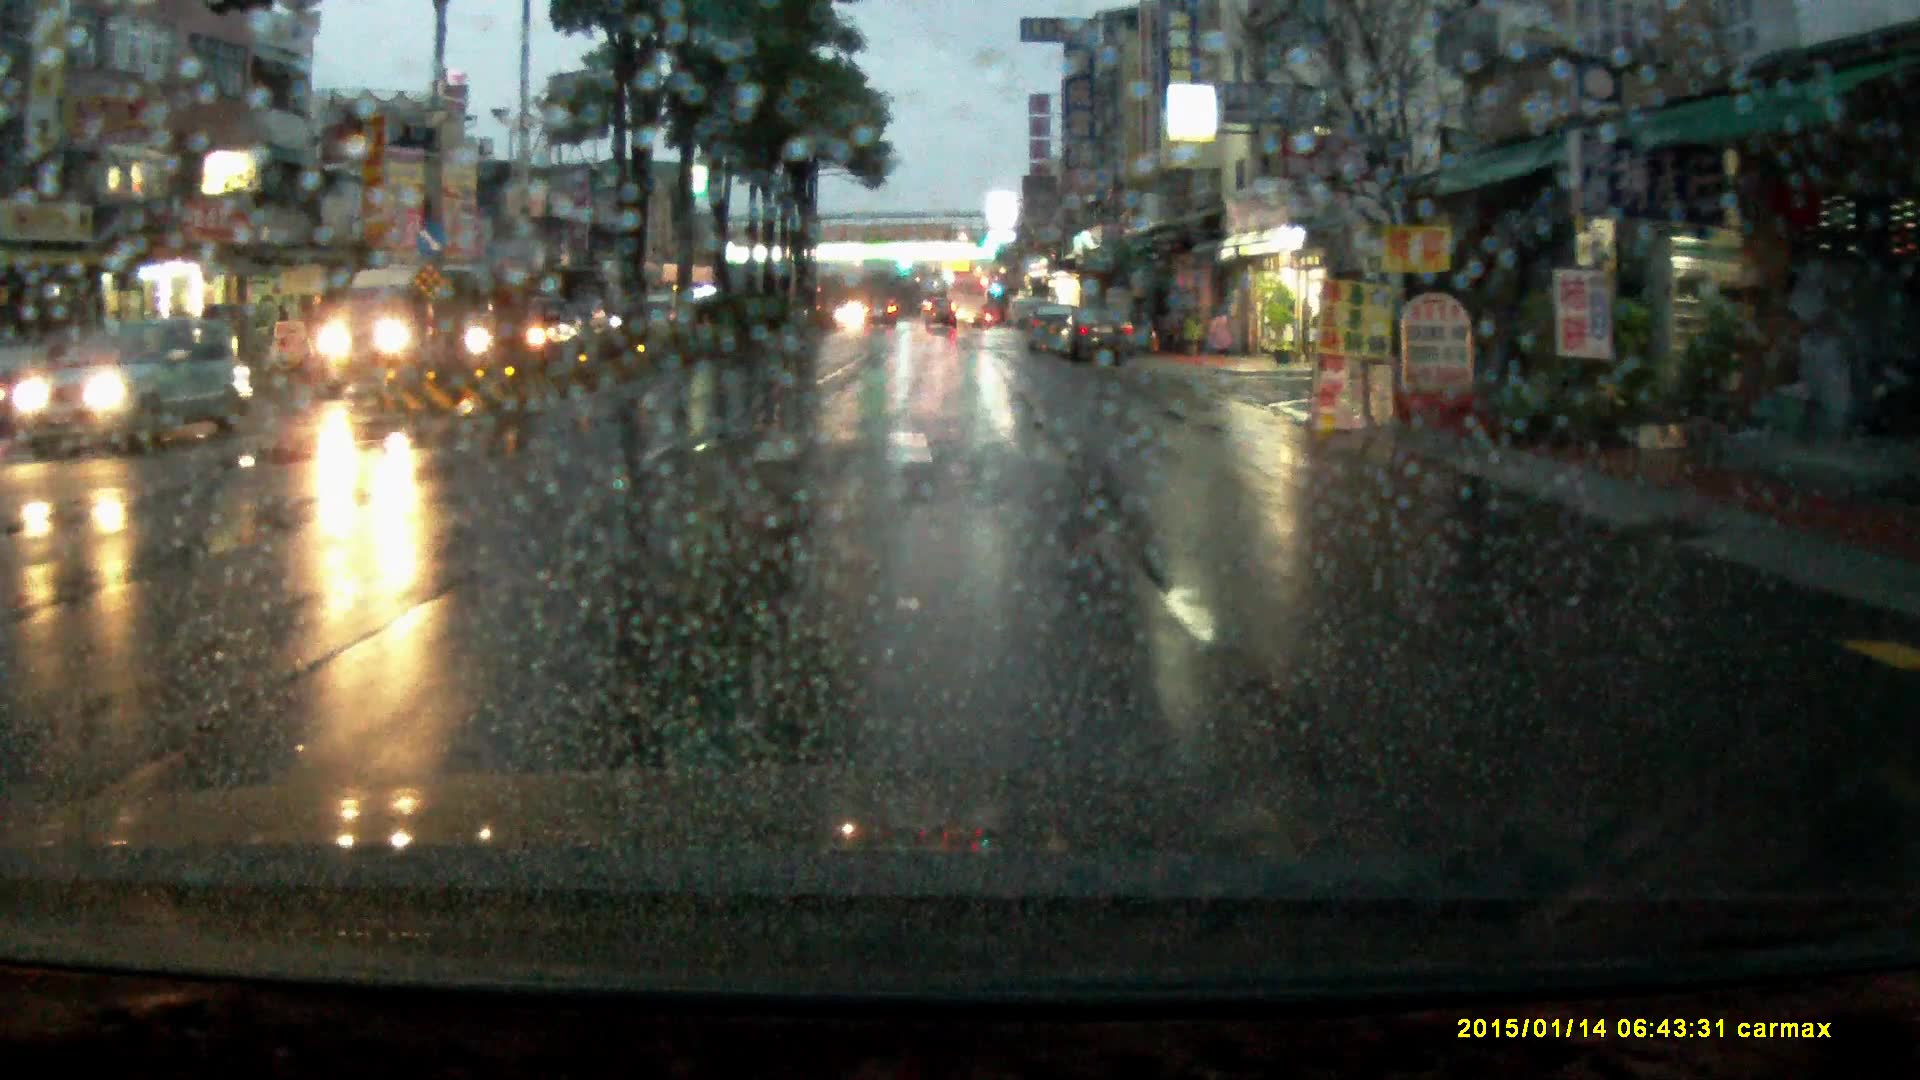vehicle: (40, 316, 241, 455), (318, 264, 477, 389), (462, 285, 571, 367), (1058, 306, 1137, 367), (1025, 302, 1079, 357), (945, 276, 986, 328), (924, 295, 957, 332), (862, 298, 898, 328)
